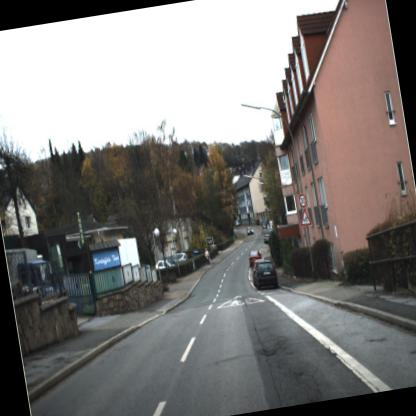danger: (296, 205, 314, 231)
prohibitory: (294, 187, 309, 209)
